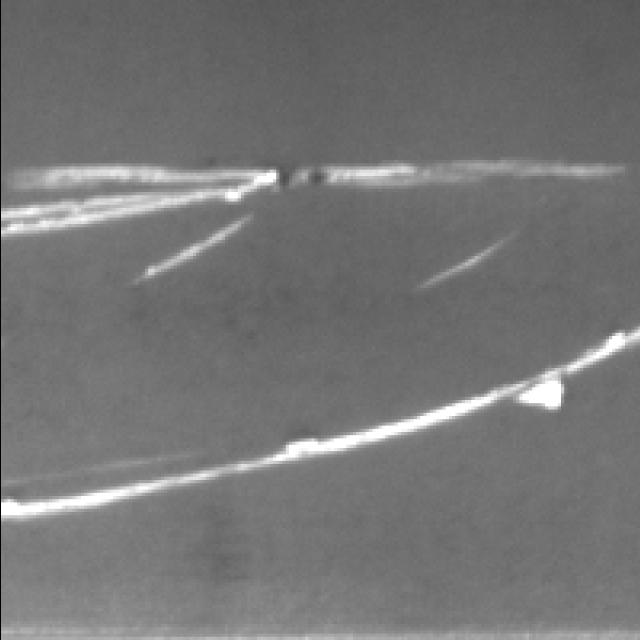scratches: (3, 339, 640, 523), (4, 165, 620, 191), (3, 197, 204, 226), (520, 376, 566, 407)
